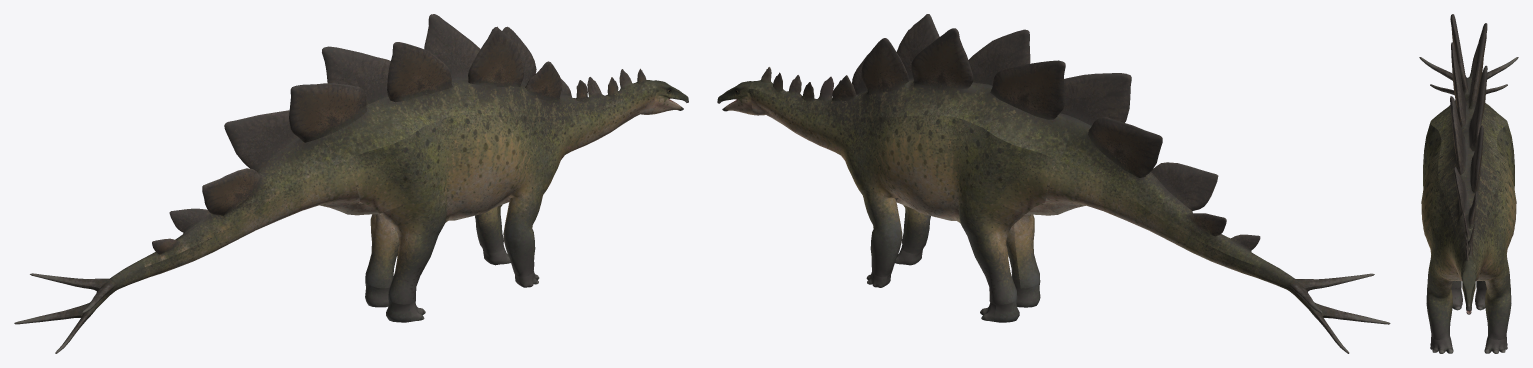
3 views of the same model, side by side, from view 1: azimuth 30°, elevation 25°; view 2: azimuth 150°, elevation 25°; view 3: azimuth 270°, elevation 25° (orthographic). The views are drawn at different scales.
Parts seen in each view (by area): view 1: Object_2; view 2: Object_2; view 3: Object_2.
Boxes of the visible parts, <box> form: Object_2: <box>14,14,688,353</box>; Object_2: <box>717,14,1390,353</box>; Object_2: <box>1419,14,1518,353</box>.
Size of the model in its own units: 42.4 by 17.19 by 5.96.
2 materials, 2 textured.
